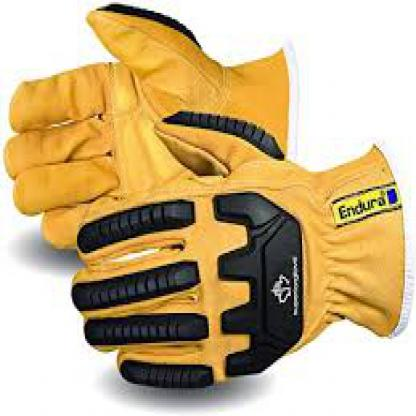with_gloves: (69, 144, 406, 388), (4, 2, 292, 251)
